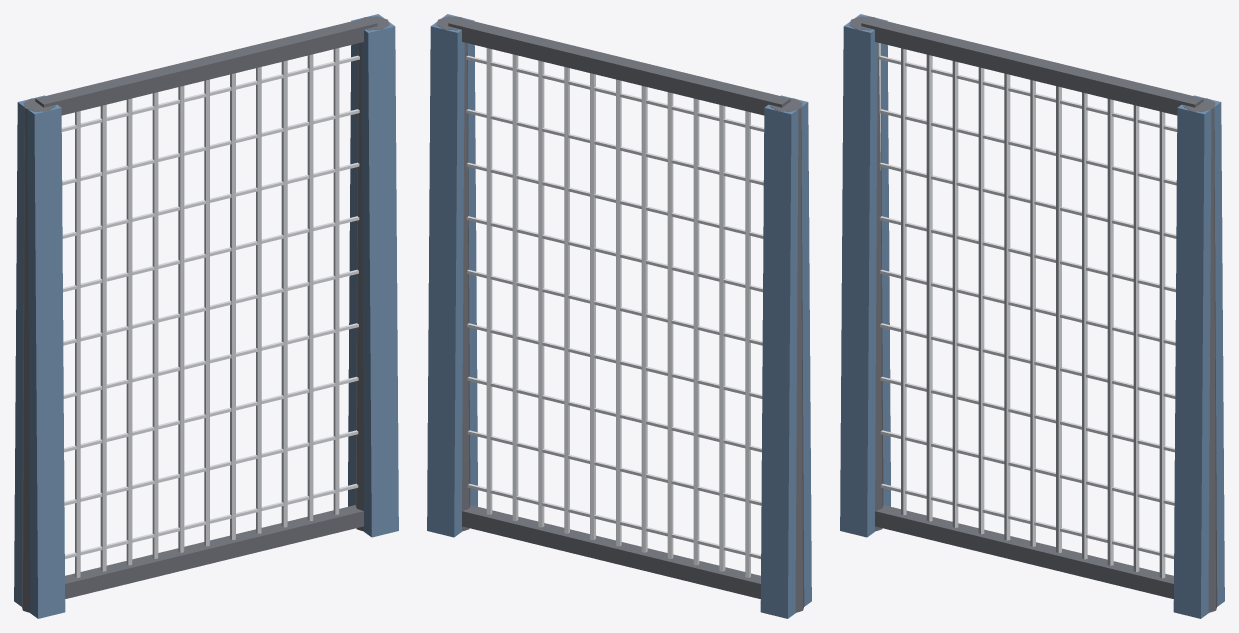
The model's file is cage_panel.glb.
3 renders of one model, left to right at view 1: azimuth 30°, elevation 25°; view 2: azimuth 150°, elevation 25°; view 3: azimuth 330°, elevation 25°, orthographic.
Parts seen in each view (by area): view 1: cage-panel; view 2: cage-panel; view 3: cage-panel.
Part boxes in pixels (x1,y1,x2,y2): cage-panel: (14,14,398,618); cage-panel: (427,14,811,618); cage-panel: (840,14,1224,618).
Size of the model in its own units: 1.76 by 2.32 by 0.1999.
